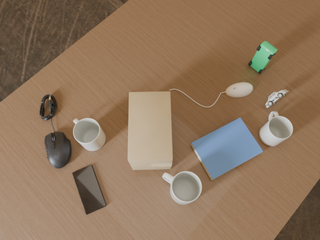book: (191, 118, 263, 180)
box: (128, 92, 173, 170)
cup: (162, 171, 202, 204), (259, 112, 293, 146), (73, 118, 106, 151)
mouse: (45, 131, 71, 168), (226, 82, 253, 97)
phone: (73, 165, 106, 214)
toy_car: (248, 41, 277, 74), (266, 90, 289, 108)
